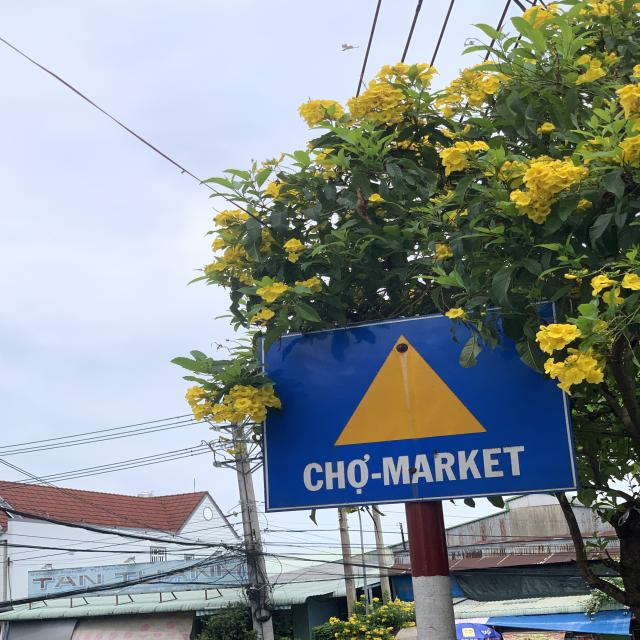Cho_Quay_Xe: (265, 311, 574, 509)
